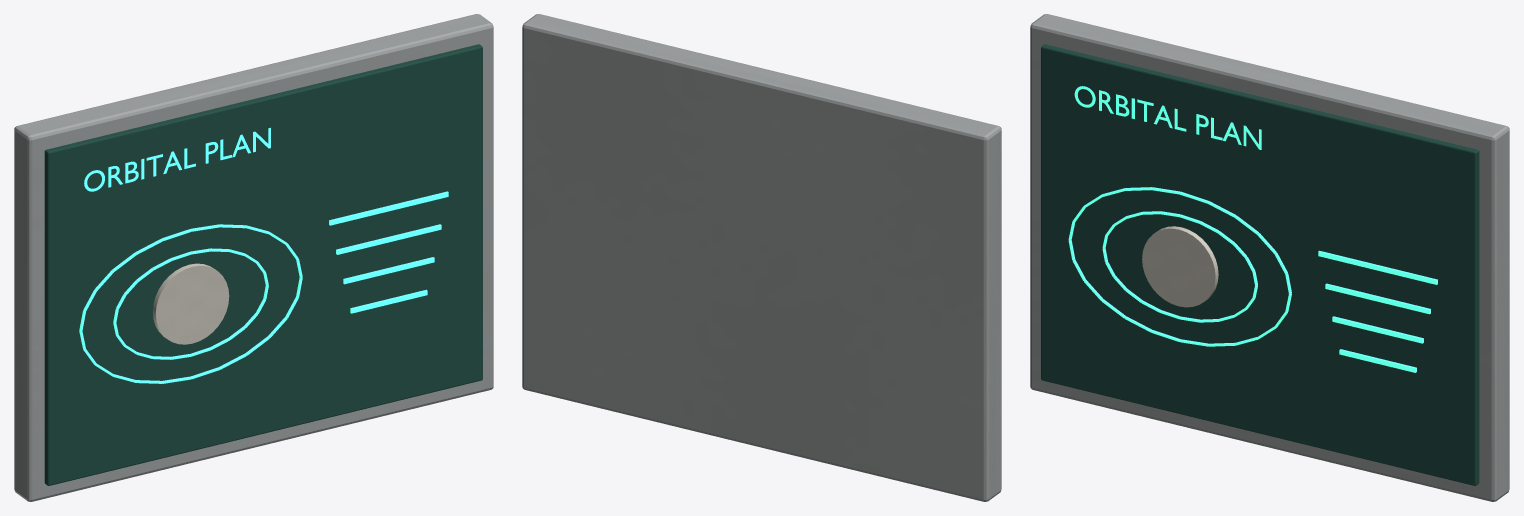
Rendered from orbital_wall_chart.glb.
3 renders of one model, left to right at view 1: azimuth 30°, elevation 25°; view 2: azimuth 150°, elevation 25°; view 3: azimuth 330°, elevation 25°, orthographic.
Parts seen in each view (by area): view 1: Chart, Frame.005, Planet, LABEL_ORBITAL_PLAN, TelemetryLine, TelemetryLine.001, TelemetryLine.002; view 2: Frame.005; view 3: Chart, Frame.005, Planet, LABEL_ORBITAL_PLAN, TelemetryLine, TelemetryLine.001, TelemetryLine.002.
Boxes of the visible parts, x1,y1,x2,y2 form: Chart: [44, 44, 482, 485]; Frame.005: [14, 14, 493, 501]; Planet: [152, 263, 229, 344]; LABEL_ORBITAL_PLAN: [84, 127, 270, 191]; TelemetryLine: [329, 191, 448, 225]; TelemetryLine.001: [336, 224, 441, 254]; TelemetryLine.002: [343, 257, 434, 284]; Frame.005: [522, 14, 1001, 501]; Chart: [1041, 44, 1479, 485]; Frame.005: [1030, 14, 1509, 501]; Planet: [1142, 226, 1218, 307]; LABEL_ORBITAL_PLAN: [1074, 86, 1261, 149]; TelemetryLine: [1318, 250, 1437, 284]; TelemetryLine.001: [1325, 283, 1430, 314]; TelemetryLine.002: [1332, 316, 1423, 343].
Size of the model in its own units: 1.65 by 1.24 by 0.141.
Materials: 4 (2 with a texture image).
